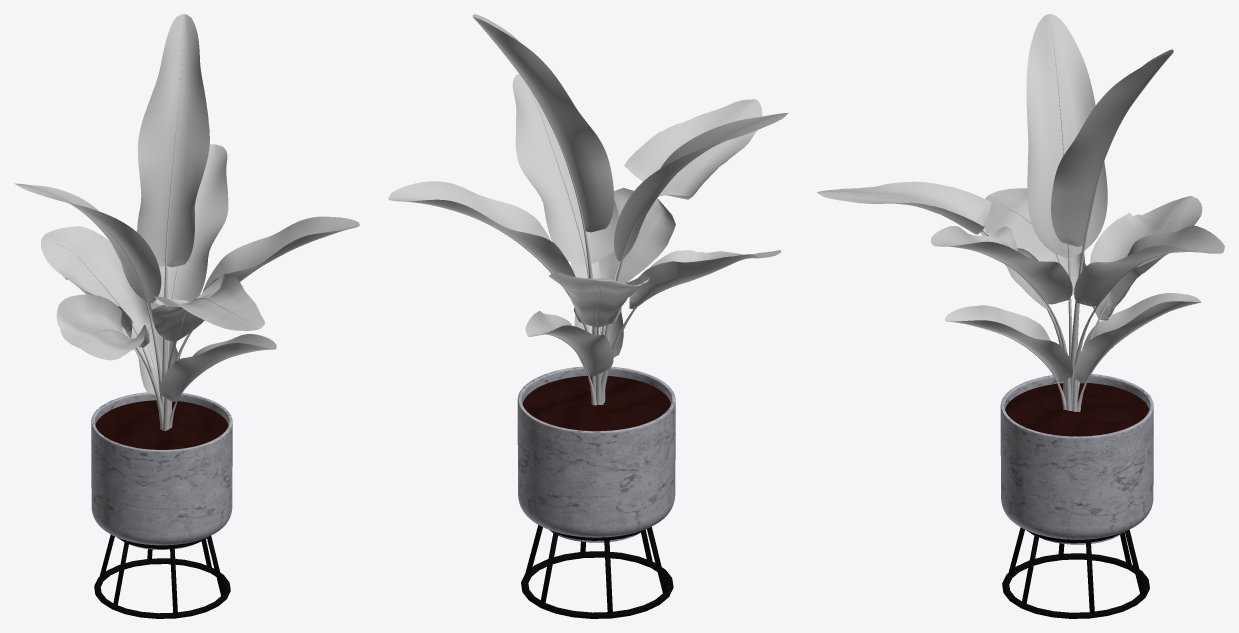
Rendered from PlantV2.fbx.
3 renders of one model, left to right at view 1: azimuth 30°, elevation 25°; view 2: azimuth 150°, elevation 25°; view 3: azimuth 270°, elevation 25°, orthographic. The views are drawn at different scales.
Visible parts, largest first — view 1: PLANT POT 4 A, PLANT POT 9 A; view 2: PLANT POT 4 A, PLANT POT 9 A; view 3: PLANT POT 4 A, PLANT POT 9 A.
Part boxes in pixels (x1,y1,x2,y2): PLANT POT 4 A: [14, 14, 359, 430]; PLANT POT 9 A: [91, 392, 232, 618]; PLANT POT 4 A: [388, 14, 788, 405]; PLANT POT 9 A: [517, 366, 675, 618]; PLANT POT 4 A: [817, 14, 1224, 411]; PLANT POT 9 A: [1000, 374, 1153, 618].
Size of the model in its own units: 84.24 by 145 by 94.03.
